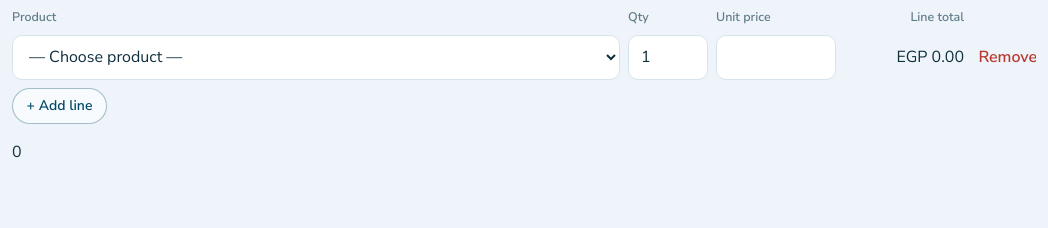
LineItems › picking a product fills its price; lines can be added and removed
Select "GLO-001 · Nitrile Gloves M (50)" in the dropdown showing "— Choose product —" at (316, 57), box [12,35,620,80]
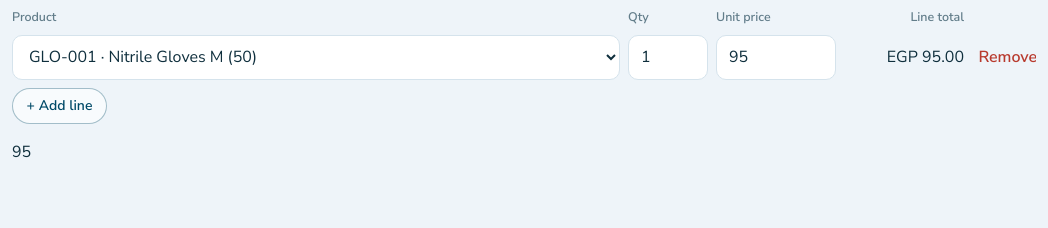
Expected: the number field named "Unit price" holds "95", [716,35,836,80]
Replace the text in the number field named "Qty" with "4" at (668, 57), box [628,35,708,80]
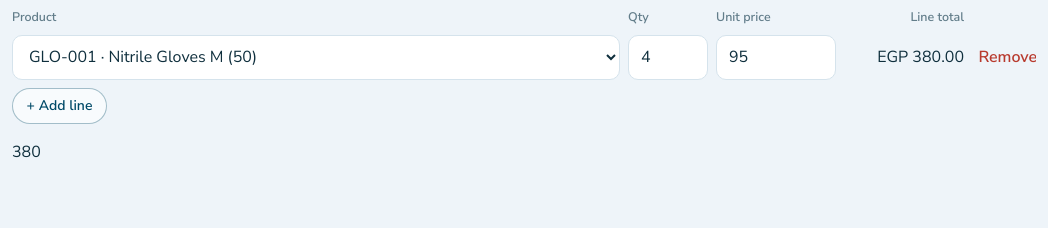
Expected: the text with test id "total" reads "380", [12,141,41,163]
Click the button "+ Add line".
click(60, 106)  # box [12,88,107,124]
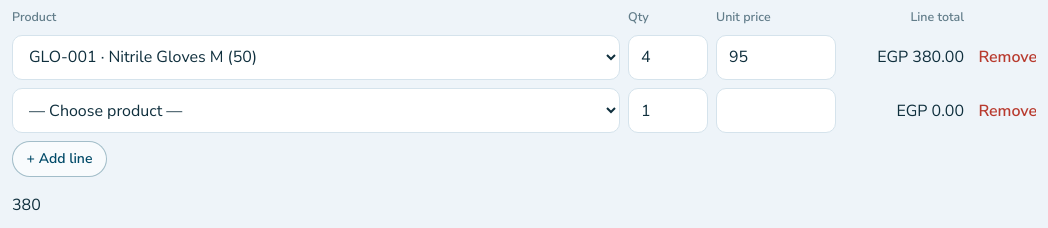
Expected: the number of number fields named "Qty" is 2, [628,35,708,80]; [628,88,708,133]
Click the button "Remove" next to "EGP 0.00".
click(1004, 110)  # box [972,94,1036,126]
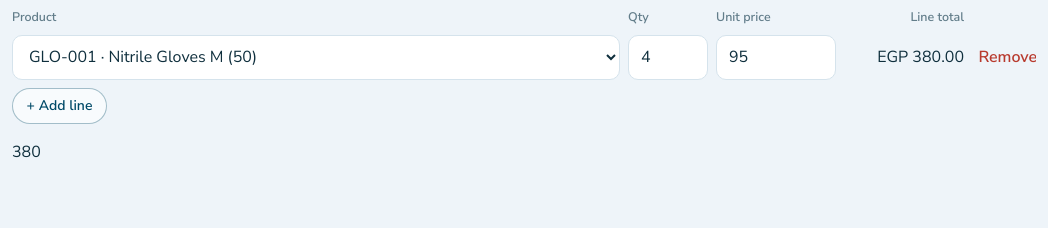
Expected: the button "Remove" is disabled, [972,41,1036,73]
Expected: the number of number fields named "Qty" is 1, [628,35,708,80]
